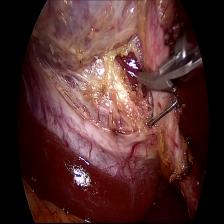Clipper: (132, 19, 208, 94)
